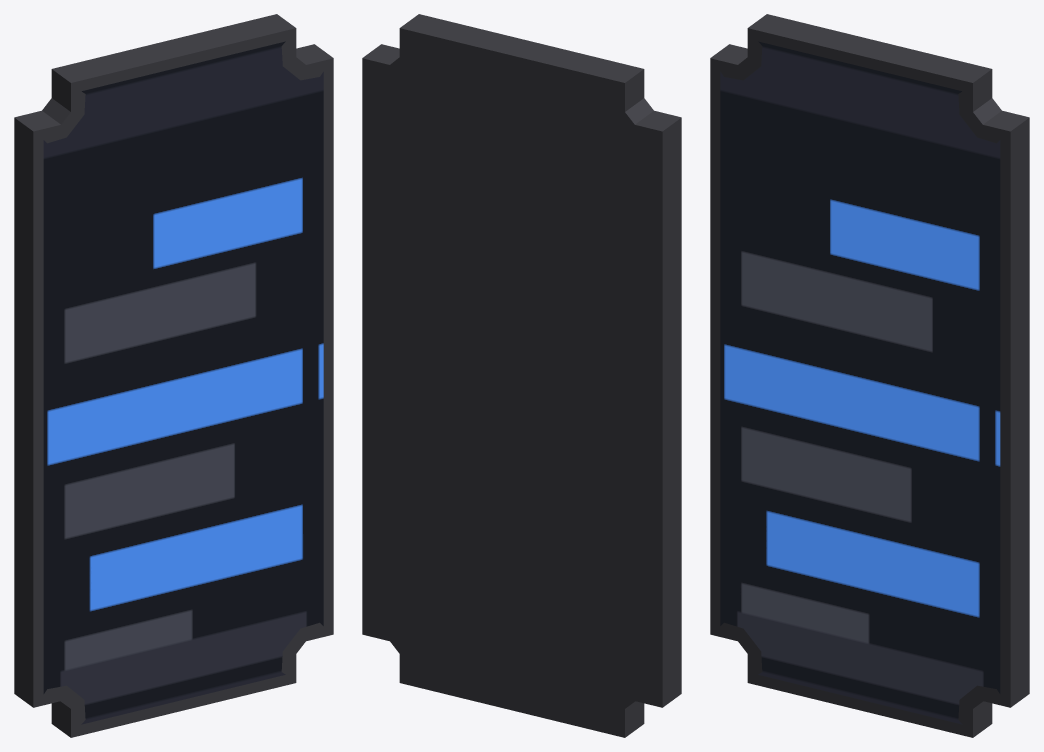
File: phone.glb
The picture shows the model from 3 angles, left to right: view 1: azimuth 30°, elevation 25°; view 2: azimuth 150°, elevation 25°; view 3: azimuth 330°, elevation 25°; orthographic projection.
Visible parts, largest first — view 1: phone; view 2: phone; view 3: phone.
Part boxes in pixels (x1,y1,x2,y2): phone: (14,14,333,737); phone: (362,14,681,737); phone: (710,14,1029,737).
Bounding box in the file's own units: 0.072 × 0.15 × 0.008.
Materials: 2 (1 with a texture image).
